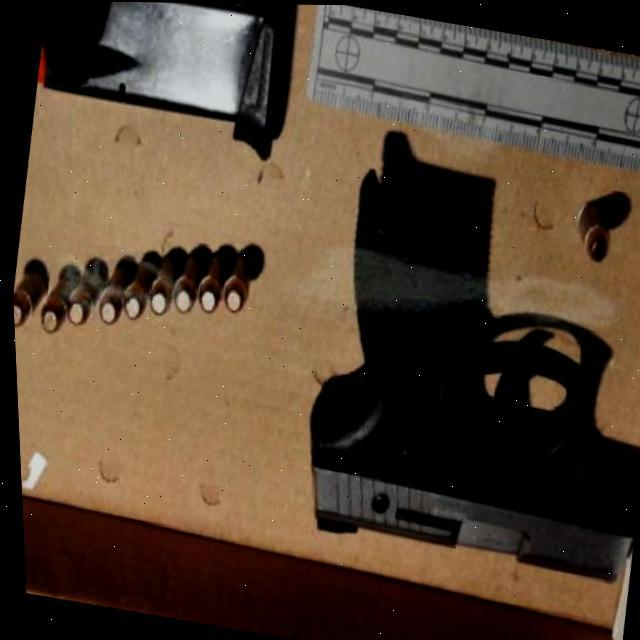gun: (268, 184, 640, 594)
